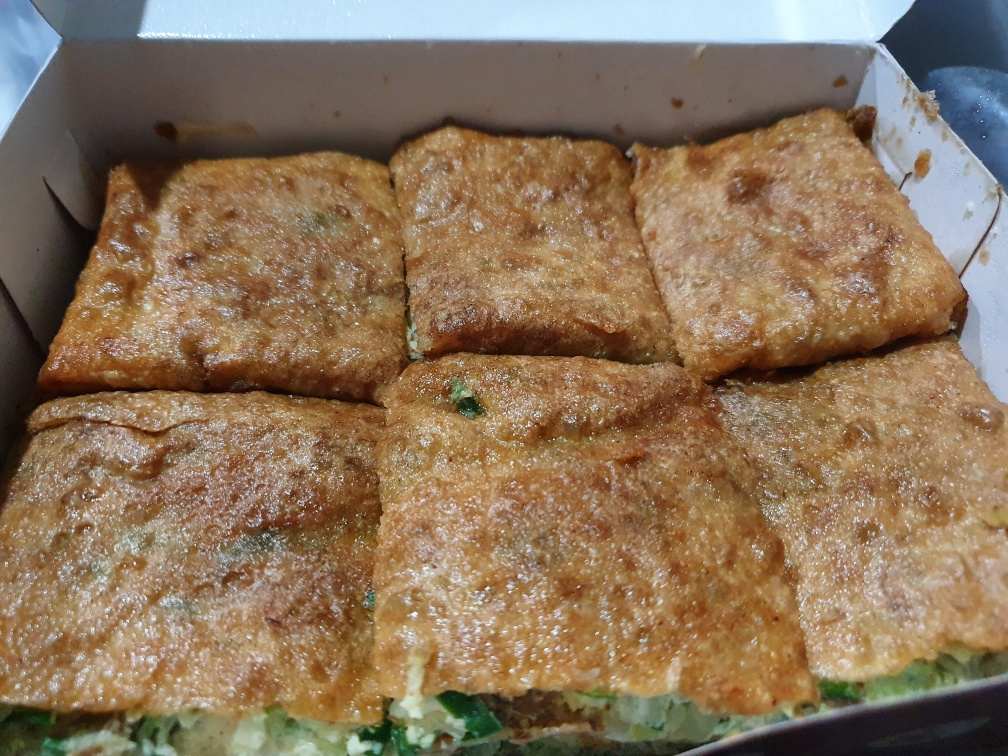martabak telor: (363, 347, 794, 748), (9, 384, 376, 732), (714, 370, 1008, 677), (43, 138, 400, 386), (614, 117, 976, 355), (371, 109, 663, 368)
